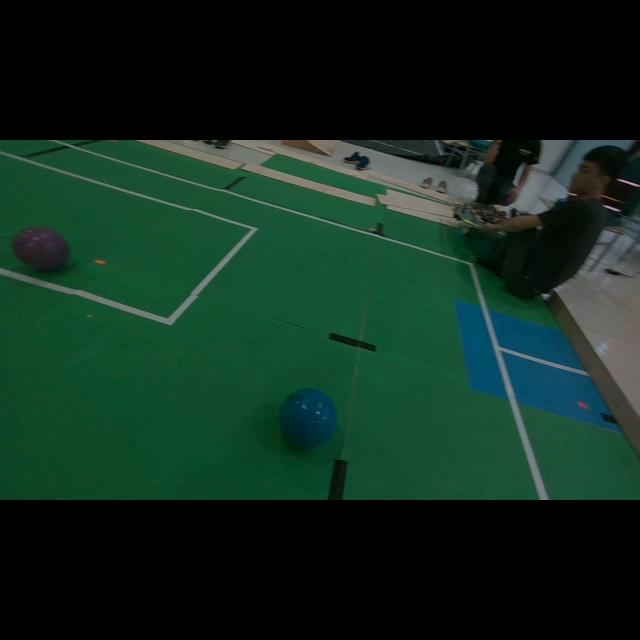B: (279, 388, 336, 449)
P: (12, 226, 69, 270)
